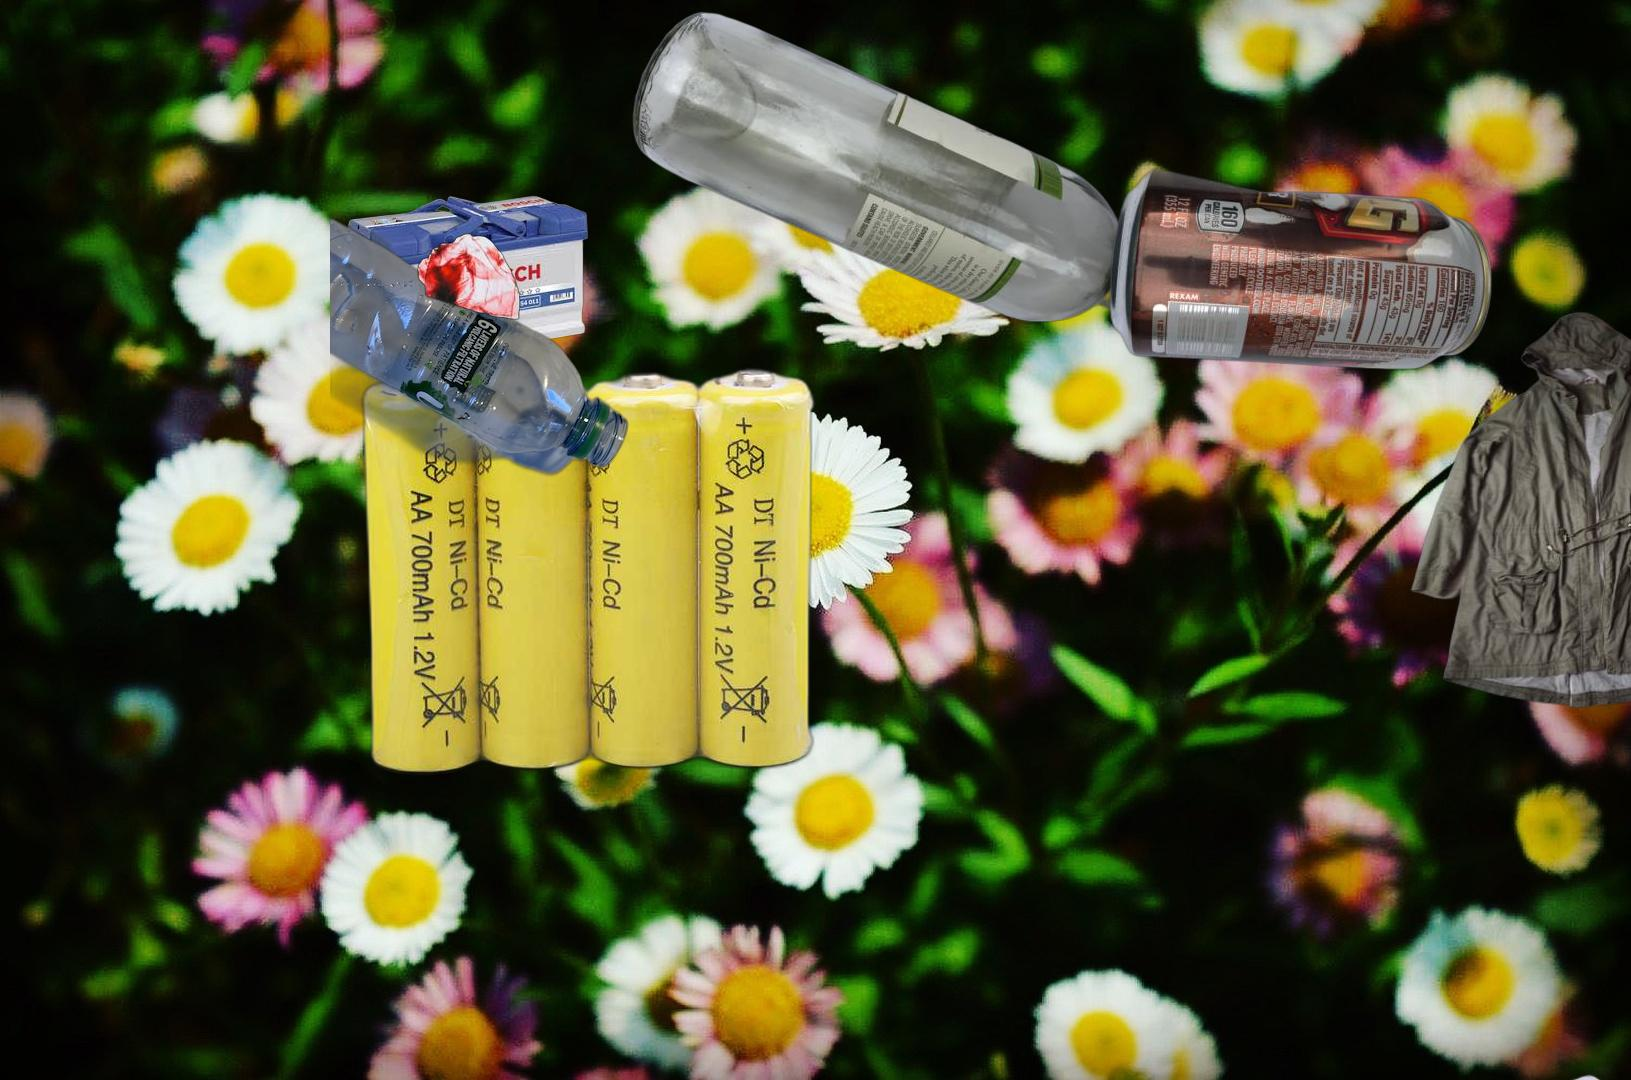battery: (354, 362, 821, 781), (341, 193, 591, 369)
clothes: (1408, 309, 1631, 711)
glass: (629, 8, 1125, 324)
metal-cans: (1102, 165, 1497, 372)
plastic-bag: (416, 231, 522, 321)
plastic-bottles: (1271, 769, 1631, 1080), (330, 212, 630, 480)
